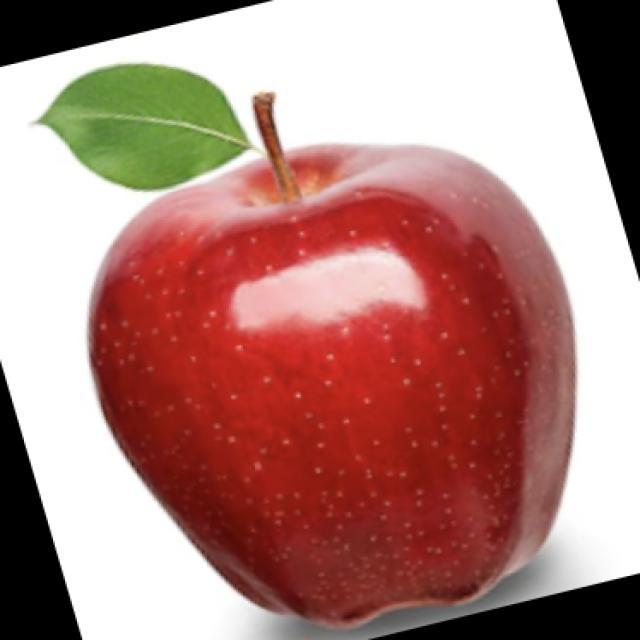Fresh Apple: (90, 153, 570, 620)
